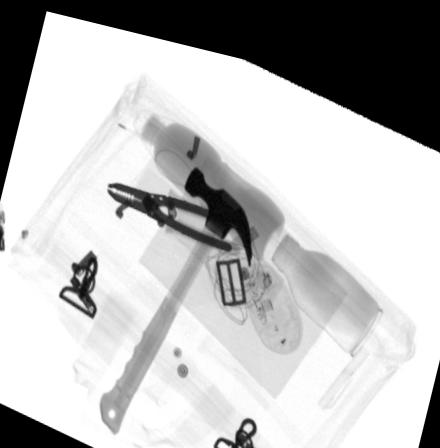Hammer: (98, 156, 253, 430)
Pliers: (108, 176, 244, 246)
